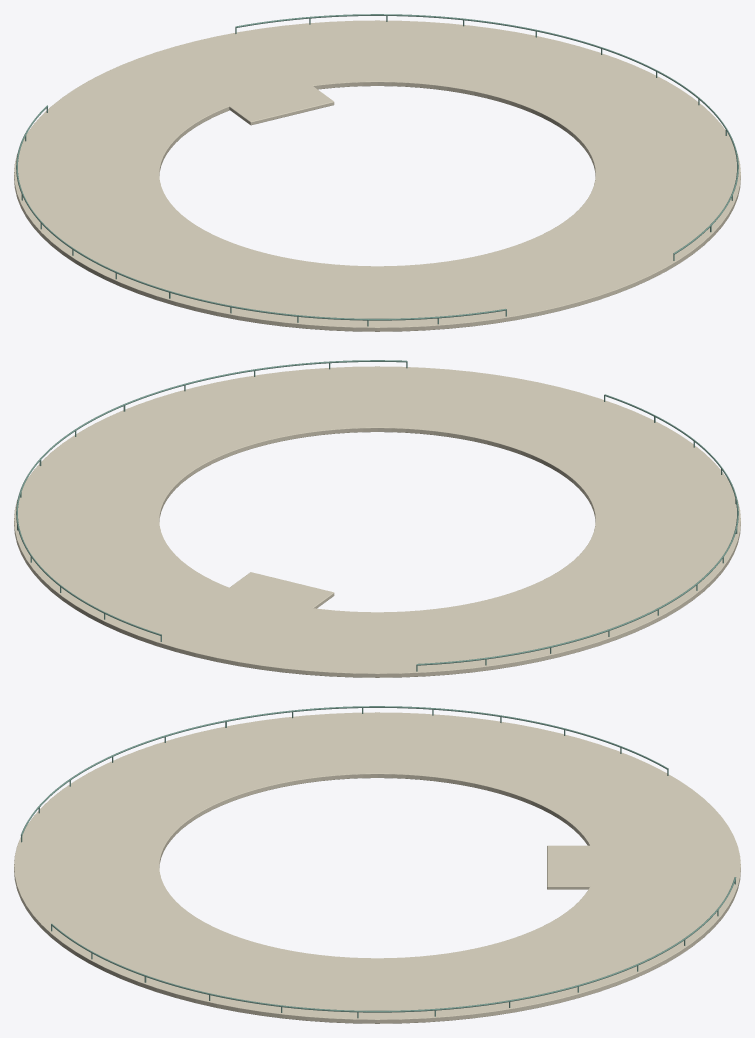
File: balcony.glb
3 views of the same model, one above another, from view 1: azimuth 30°, elevation 25°; view 2: azimuth 150°, elevation 25°; view 3: azimuth 270°, elevation 25° (orthographic).
Parts seen in each view (by area): view 1: balcony; view 2: balcony; view 3: balcony.
Part boxes in pixels (<box>): balcony: <box>14,14,740,331</box>; balcony: <box>14,360,740,677</box>; balcony: <box>14,706,740,1023</box>.
Size of the model in its own units: 120 by 2.13 by 120.
